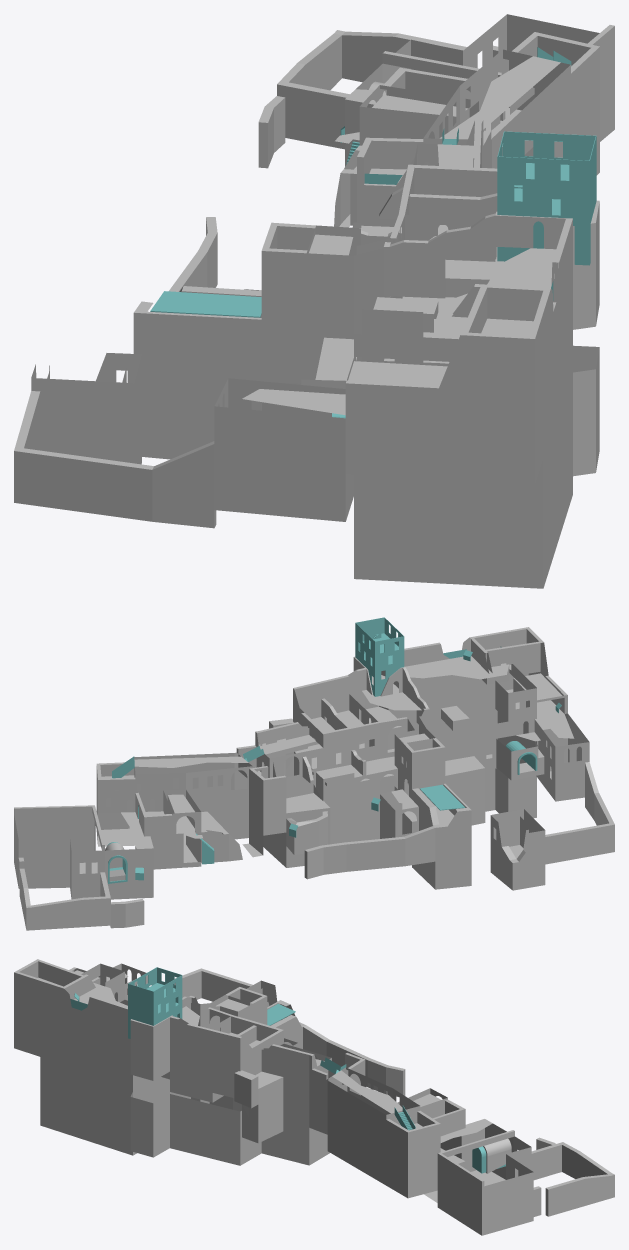
File: Project 05_Living Ruins.glb
The picture shows the model from 3 angles, top to bottom: view 1: azimuth 30°, elevation 25°; view 2: azimuth 150°, elevation 25°; view 3: azimuth 270°, elevation 25°; orthographic projection. The views are drawn at different scales.
Bounding box in the file's own units: 0.8597 × 0.3163 × 0.9837.
